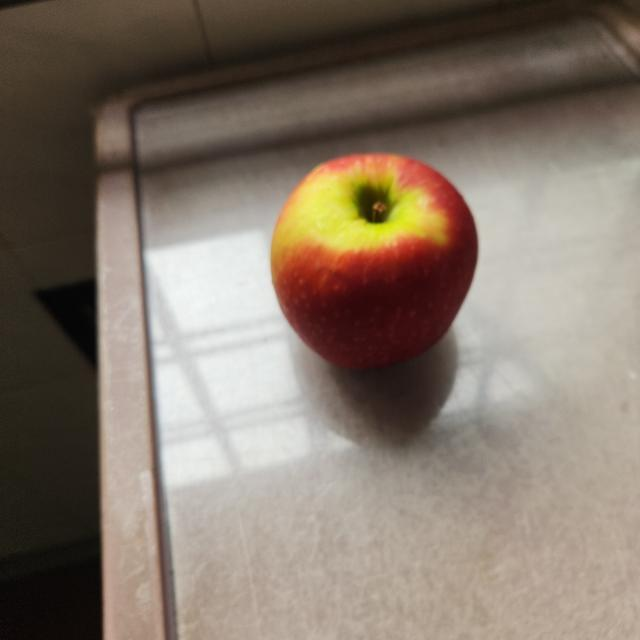apple: (263, 142, 486, 380)
